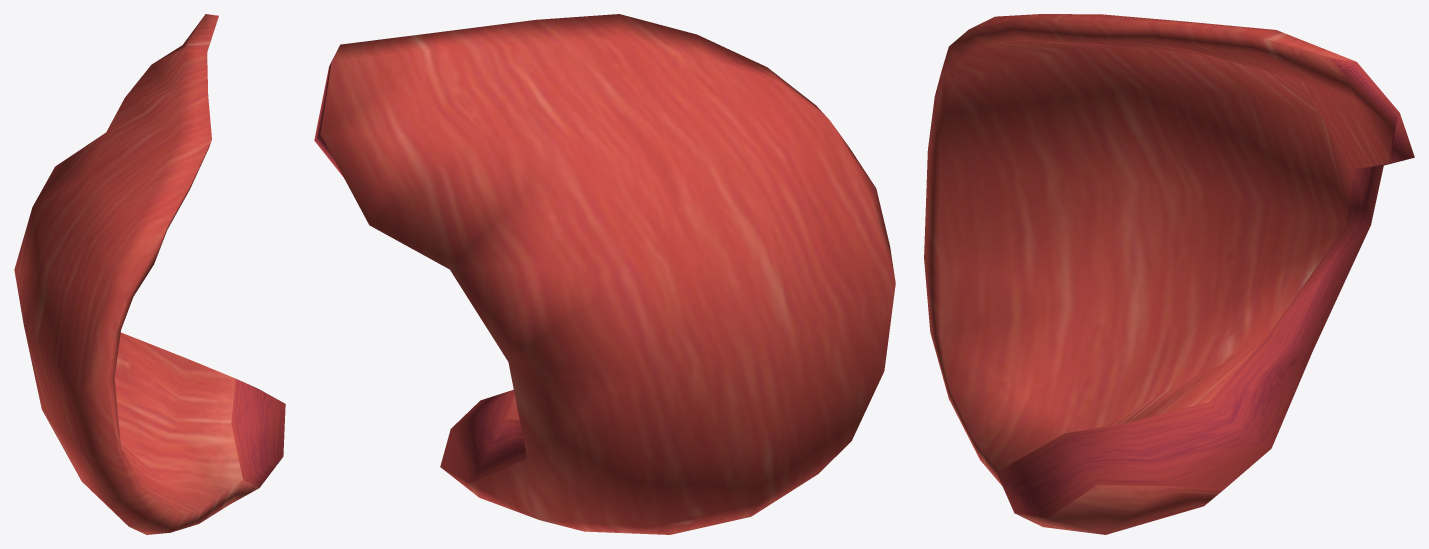
The model's file is CostalDir.fbx.
The picture shows the model from 3 angles, left to right: view 1: azimuth 30°, elevation 25°; view 2: azimuth 150°, elevation 25°; view 3: azimuth 270°, elevation 25°; orthographic projection. The views are drawn at different scales.
Parts seen in each view (by area): view 1: CostalDir; view 2: CostalDir; view 3: CostalDir.
Boxes of the visible parts, box(x1,y1,x2,y2) form: CostalDir: box(14, 14, 285, 534); CostalDir: box(314, 14, 895, 534); CostalDir: box(924, 14, 1414, 534).
Size of the model in its own units: 38.46 by 52.75 by 43.12.
